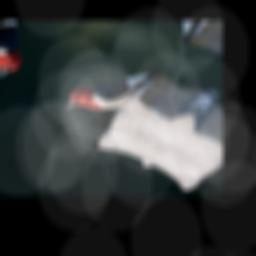Woodpecker: (55, 40, 174, 137)
